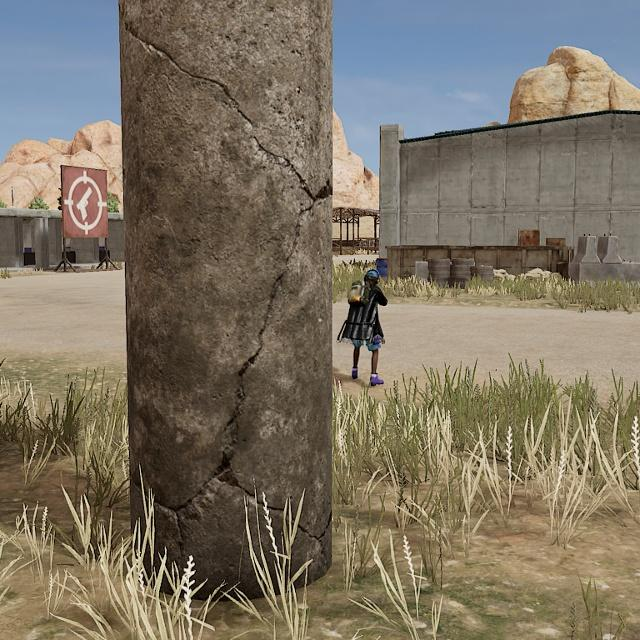head: (364, 266, 383, 290)
people: (339, 264, 398, 395)
